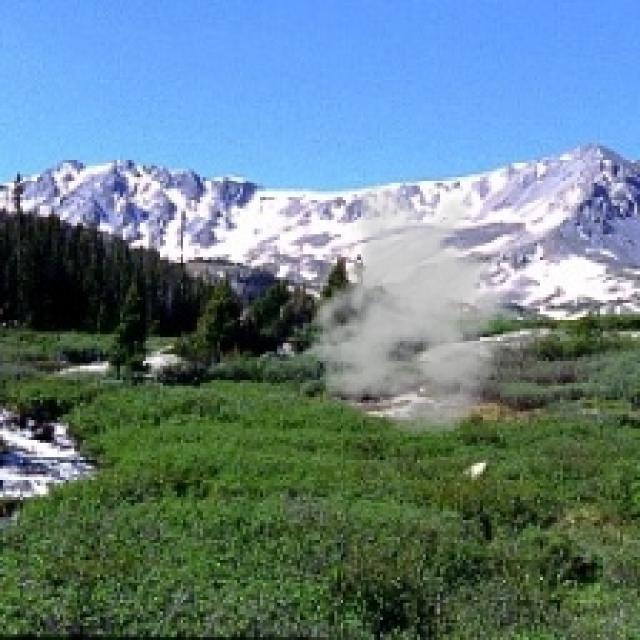Smoke: (297, 186, 532, 437)
